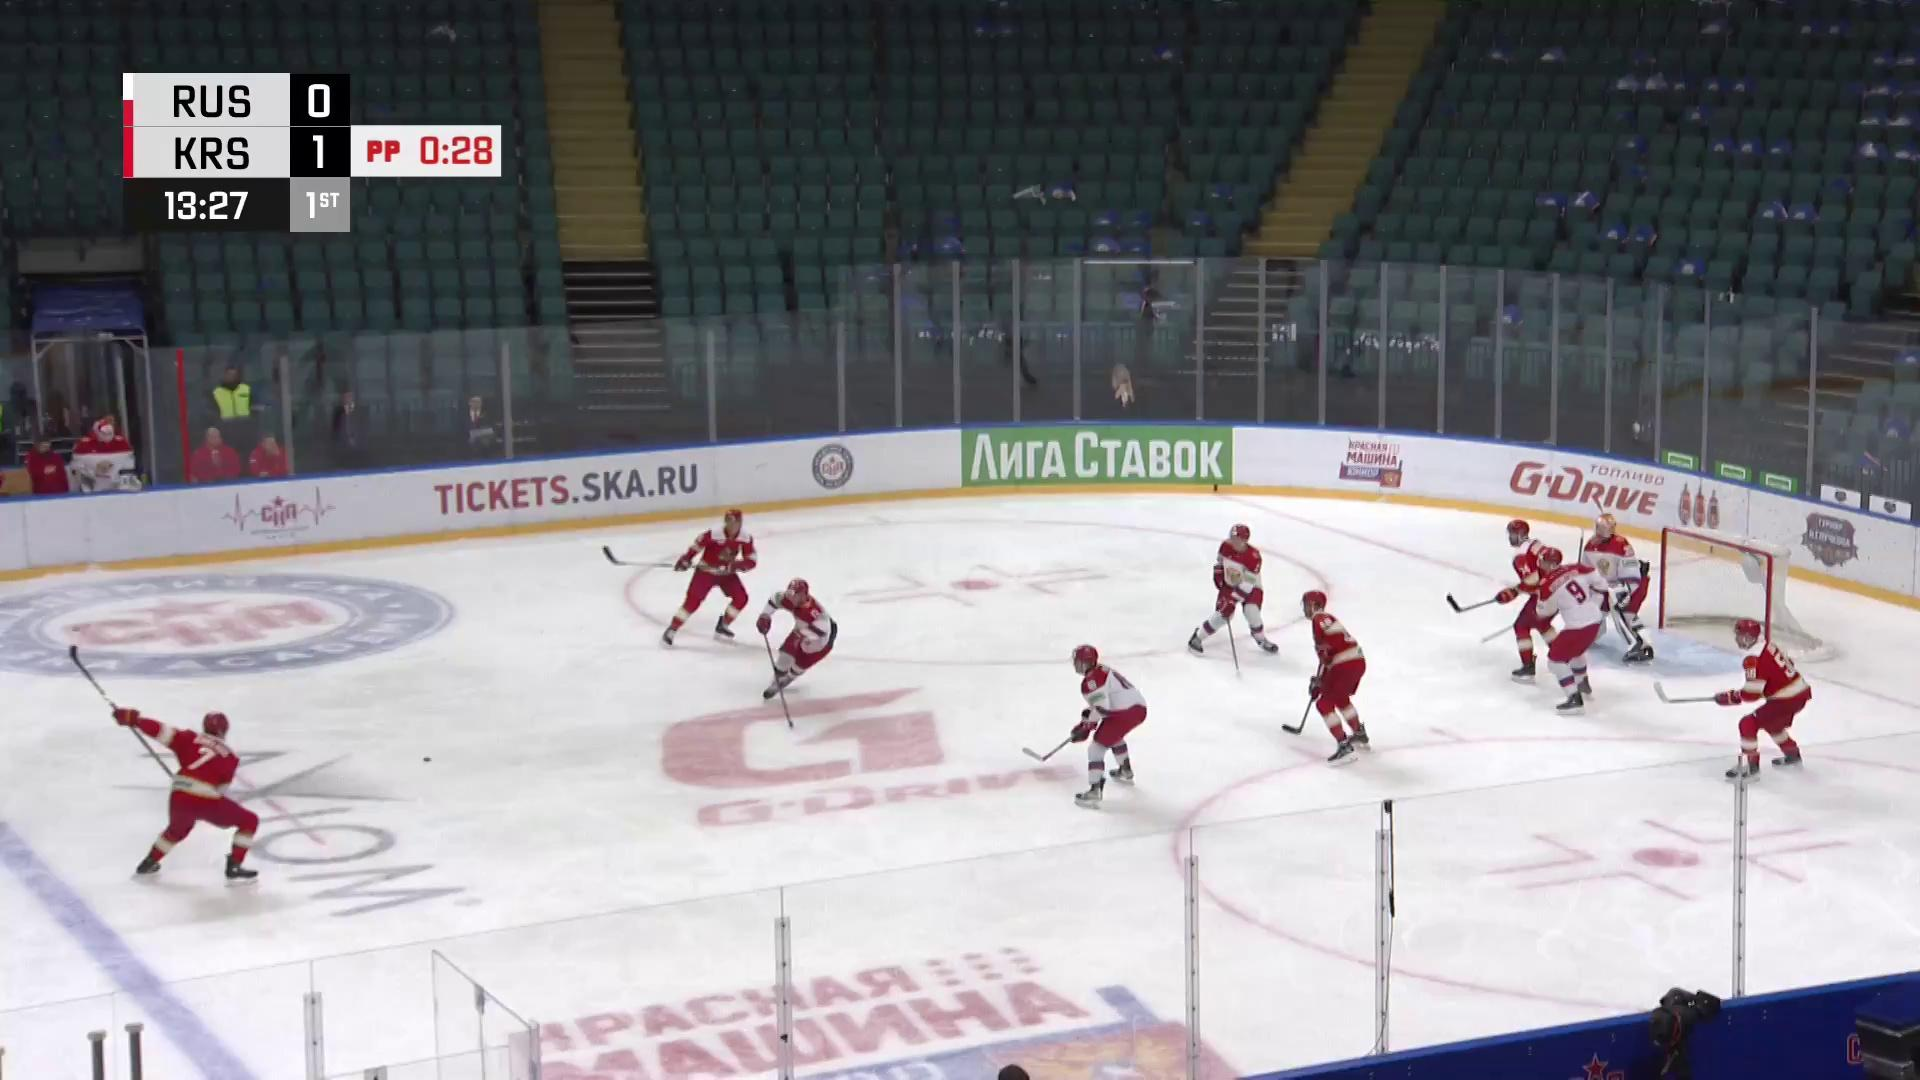ball: (421, 756, 434, 765)
